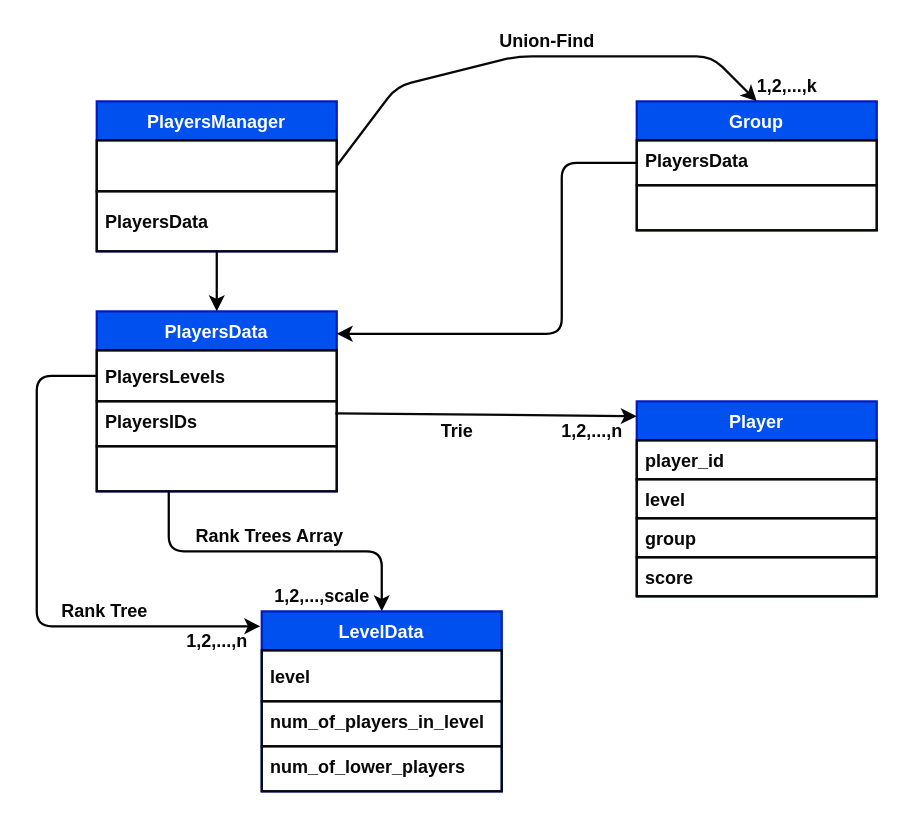
The diagram is 905 pixels wide and 821 high, and some of its shapes have lost their labels. Each missing label, with the centre of its shape:
"group_id" goes at point 756,207.
"Groups" goes at point 216,165.
"PlayerLevelsByScore" goes at point 216,468.
